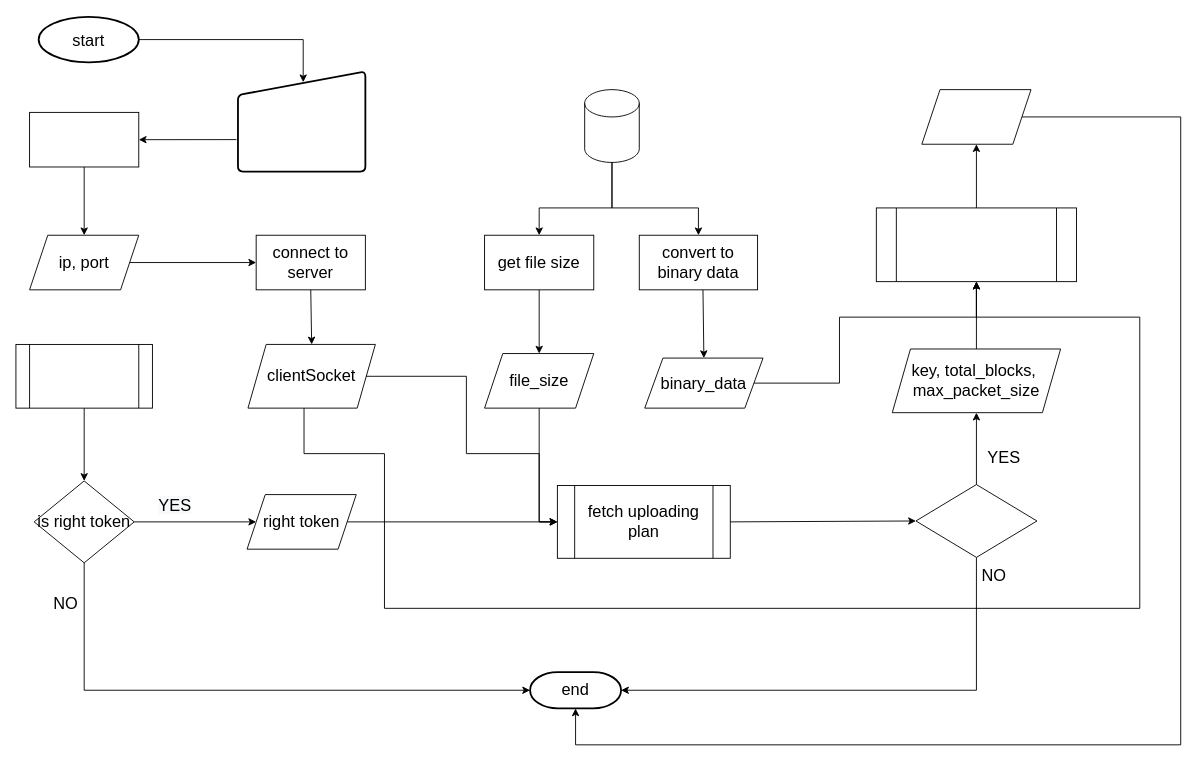
This 1204x768 diagram has some shape labels left out. The centre of each missing label's shape, as x and y in pixels:
_argparse(): (84,139)
acquire authorization: (83,376)
contains key?: (976,520)
file: (611,125)
file uploading: (976,244)
Key commands, with parameters, server IP, port: (301,121)
md5: (976,116)
